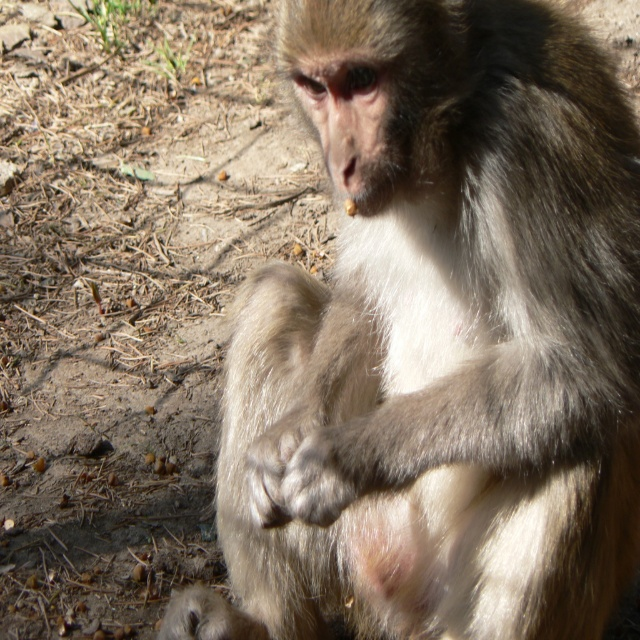Monkey: (211, 0, 640, 639)
